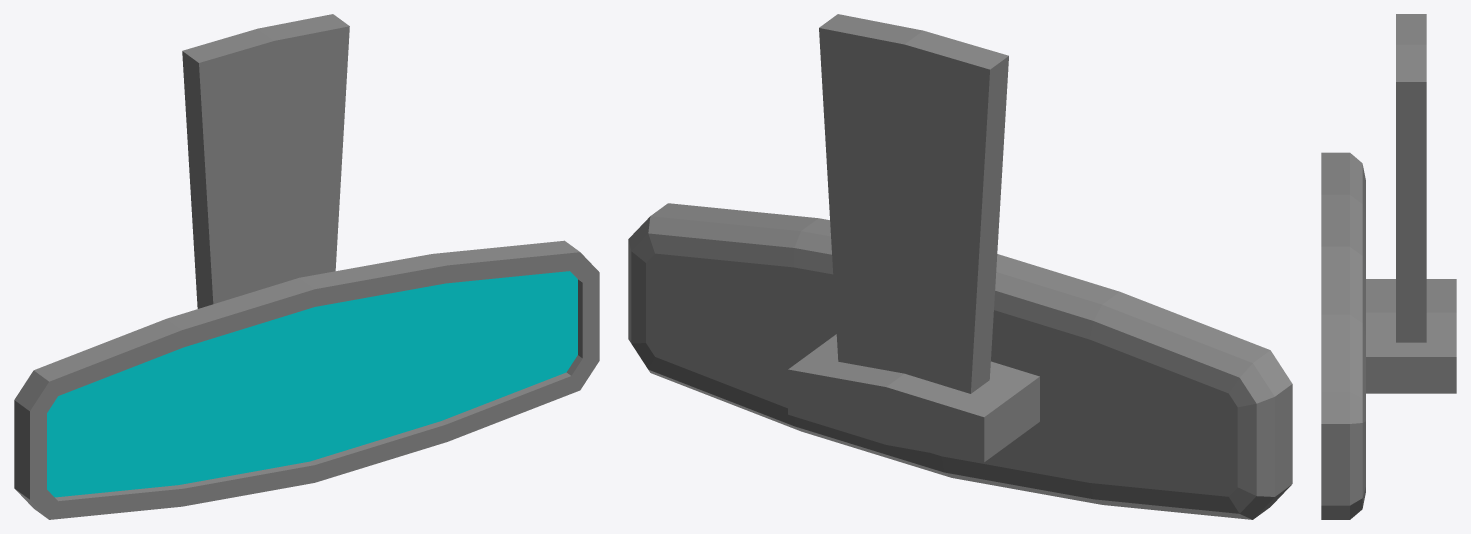
File: rearCam.fbx
The picture shows the model from 3 angles, left to right: view 1: azimuth 30°, elevation 25°; view 2: azimuth 150°, elevation 25°; view 3: azimuth 270°, elevation 25°; orthographic projection. The views are drawn at different scales.
Parts seen in each view (by area): view 1: Mirror; view 2: Mirror; view 3: Mirror.
Boxes of the visible parts, bbox=[...] form: Mirror: bbox=[14, 14, 599, 519]; Mirror: bbox=[628, 14, 1292, 519]; Mirror: bbox=[1321, 14, 1456, 519].
Size of the model in its own units: 524 by 363 by 117.
